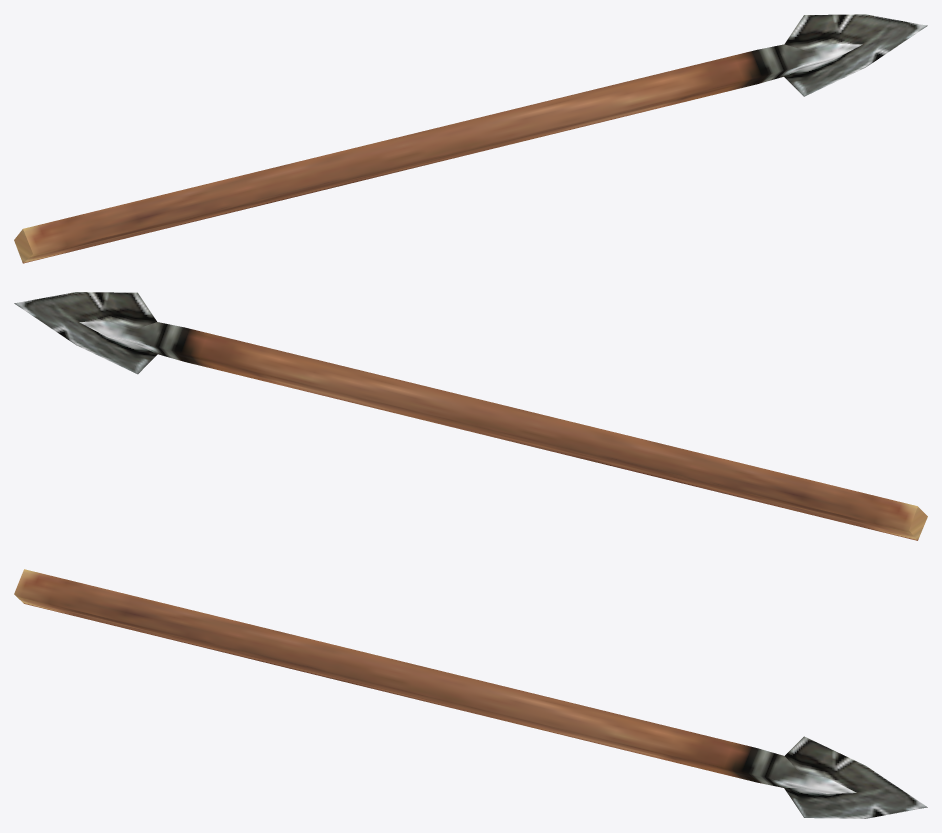
File: UD_weapon_Spear.gltf
3 views of the same model, one above another, from view 1: azimuth 30°, elevation 25°; view 2: azimuth 150°, elevation 25°; view 3: azimuth 330°, elevation 25° (orthographic).
Visible parts, largest first — view 1: UD_weapon_Spear; view 2: UD_weapon_Spear; view 3: UD_weapon_Spear.
Boxes of the visible parts, box(x1,y1,x2,y2) form: UD_weapon_Spear: box(14, 14, 927, 263); UD_weapon_Spear: box(14, 292, 927, 540); UD_weapon_Spear: box(14, 569, 927, 818).
Size of the model in its own units: 1.95 by 0.1686 by 0.0712.
Materials: 1 (1 with a texture image).
